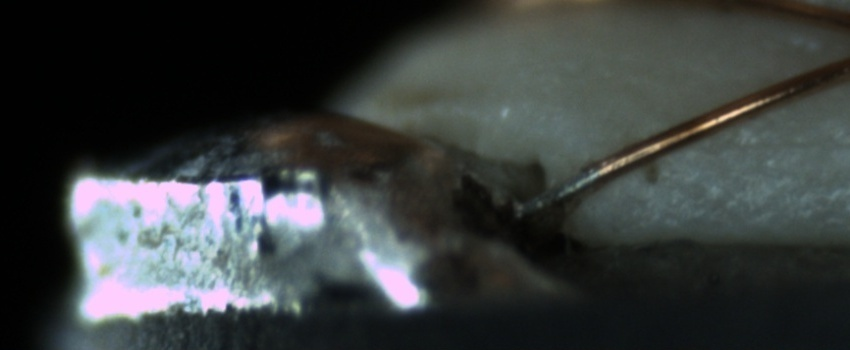DL: (695, 112, 849, 176)
TS: (508, 166, 599, 221)
